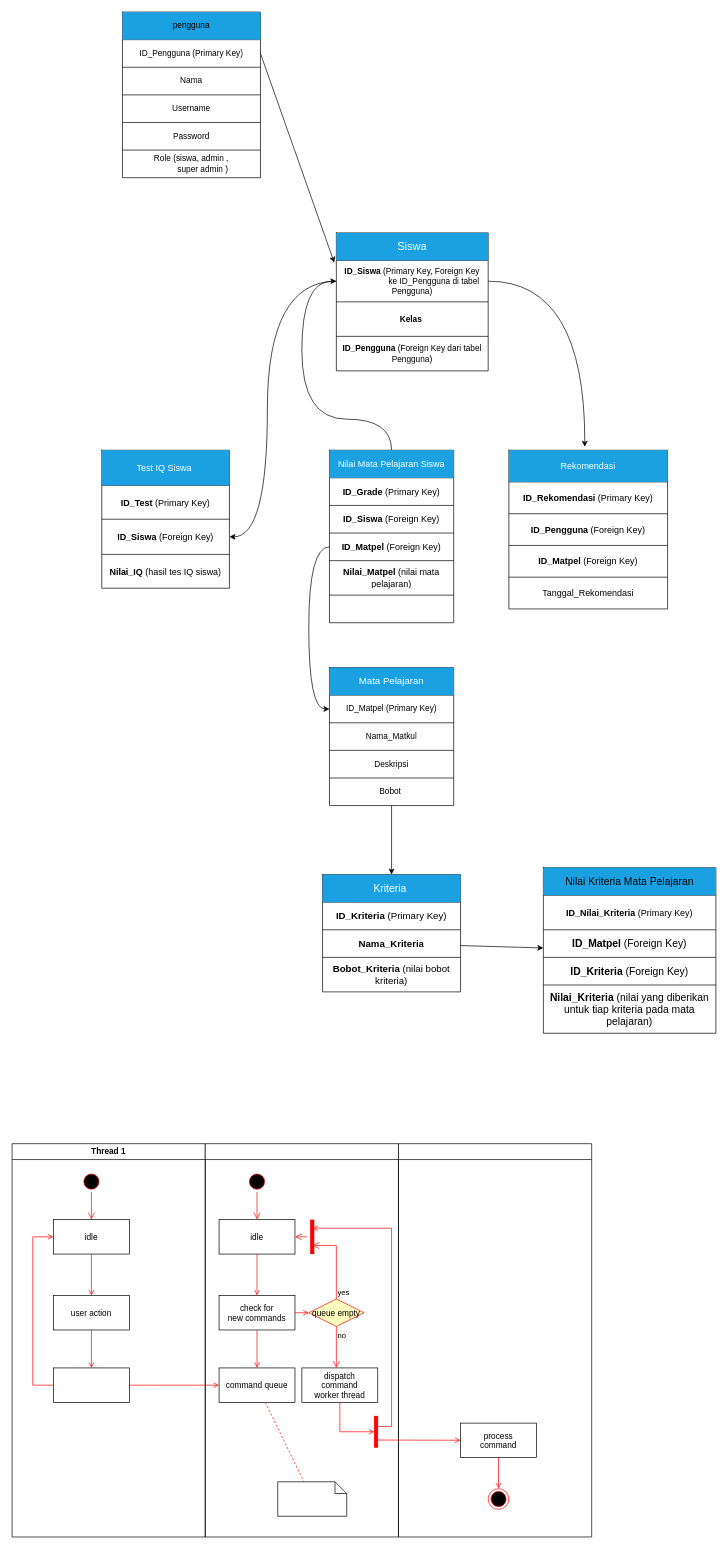
This 728x1549 diagram has some shape labels left out. Each missing label, with the box of its shape:
critical section: (277, 1481, 347, 1516)
post command: (53, 1367, 129, 1402)
Thread 2: (205, 1143, 398, 1537)
Thread 3: (398, 1143, 592, 1537)
